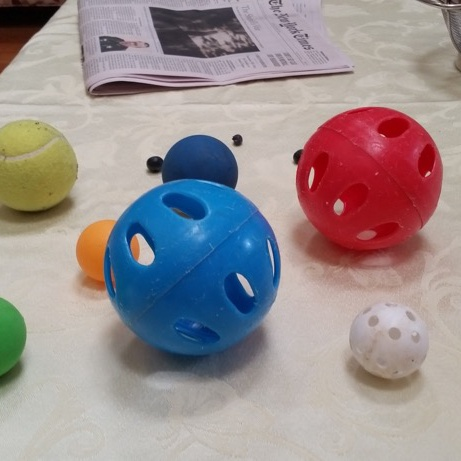blueball: (100, 175, 284, 356)
redball: (291, 101, 447, 249)
